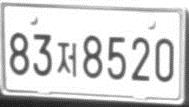0: (155, 37, 174, 82)
2: (130, 36, 152, 82)
3: (31, 34, 52, 76)
5: (107, 36, 126, 80)
8: (82, 35, 104, 79), (9, 31, 29, 76)
저: (56, 41, 78, 79)
